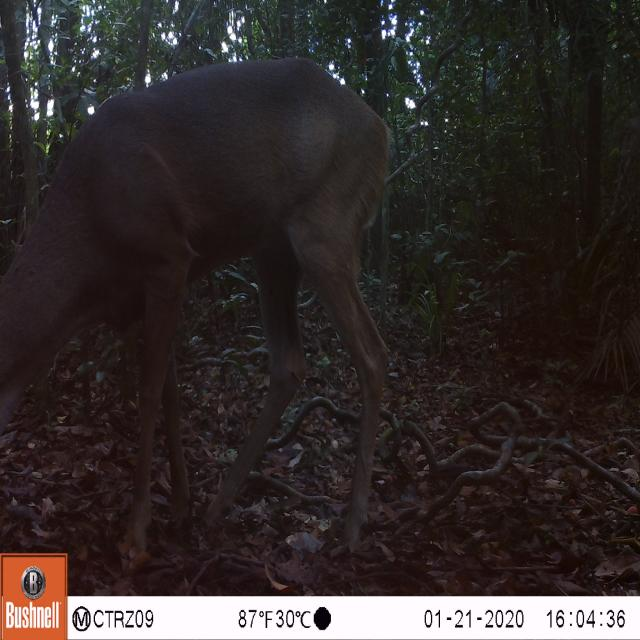White-tailed Deer: (0, 46, 411, 562)
